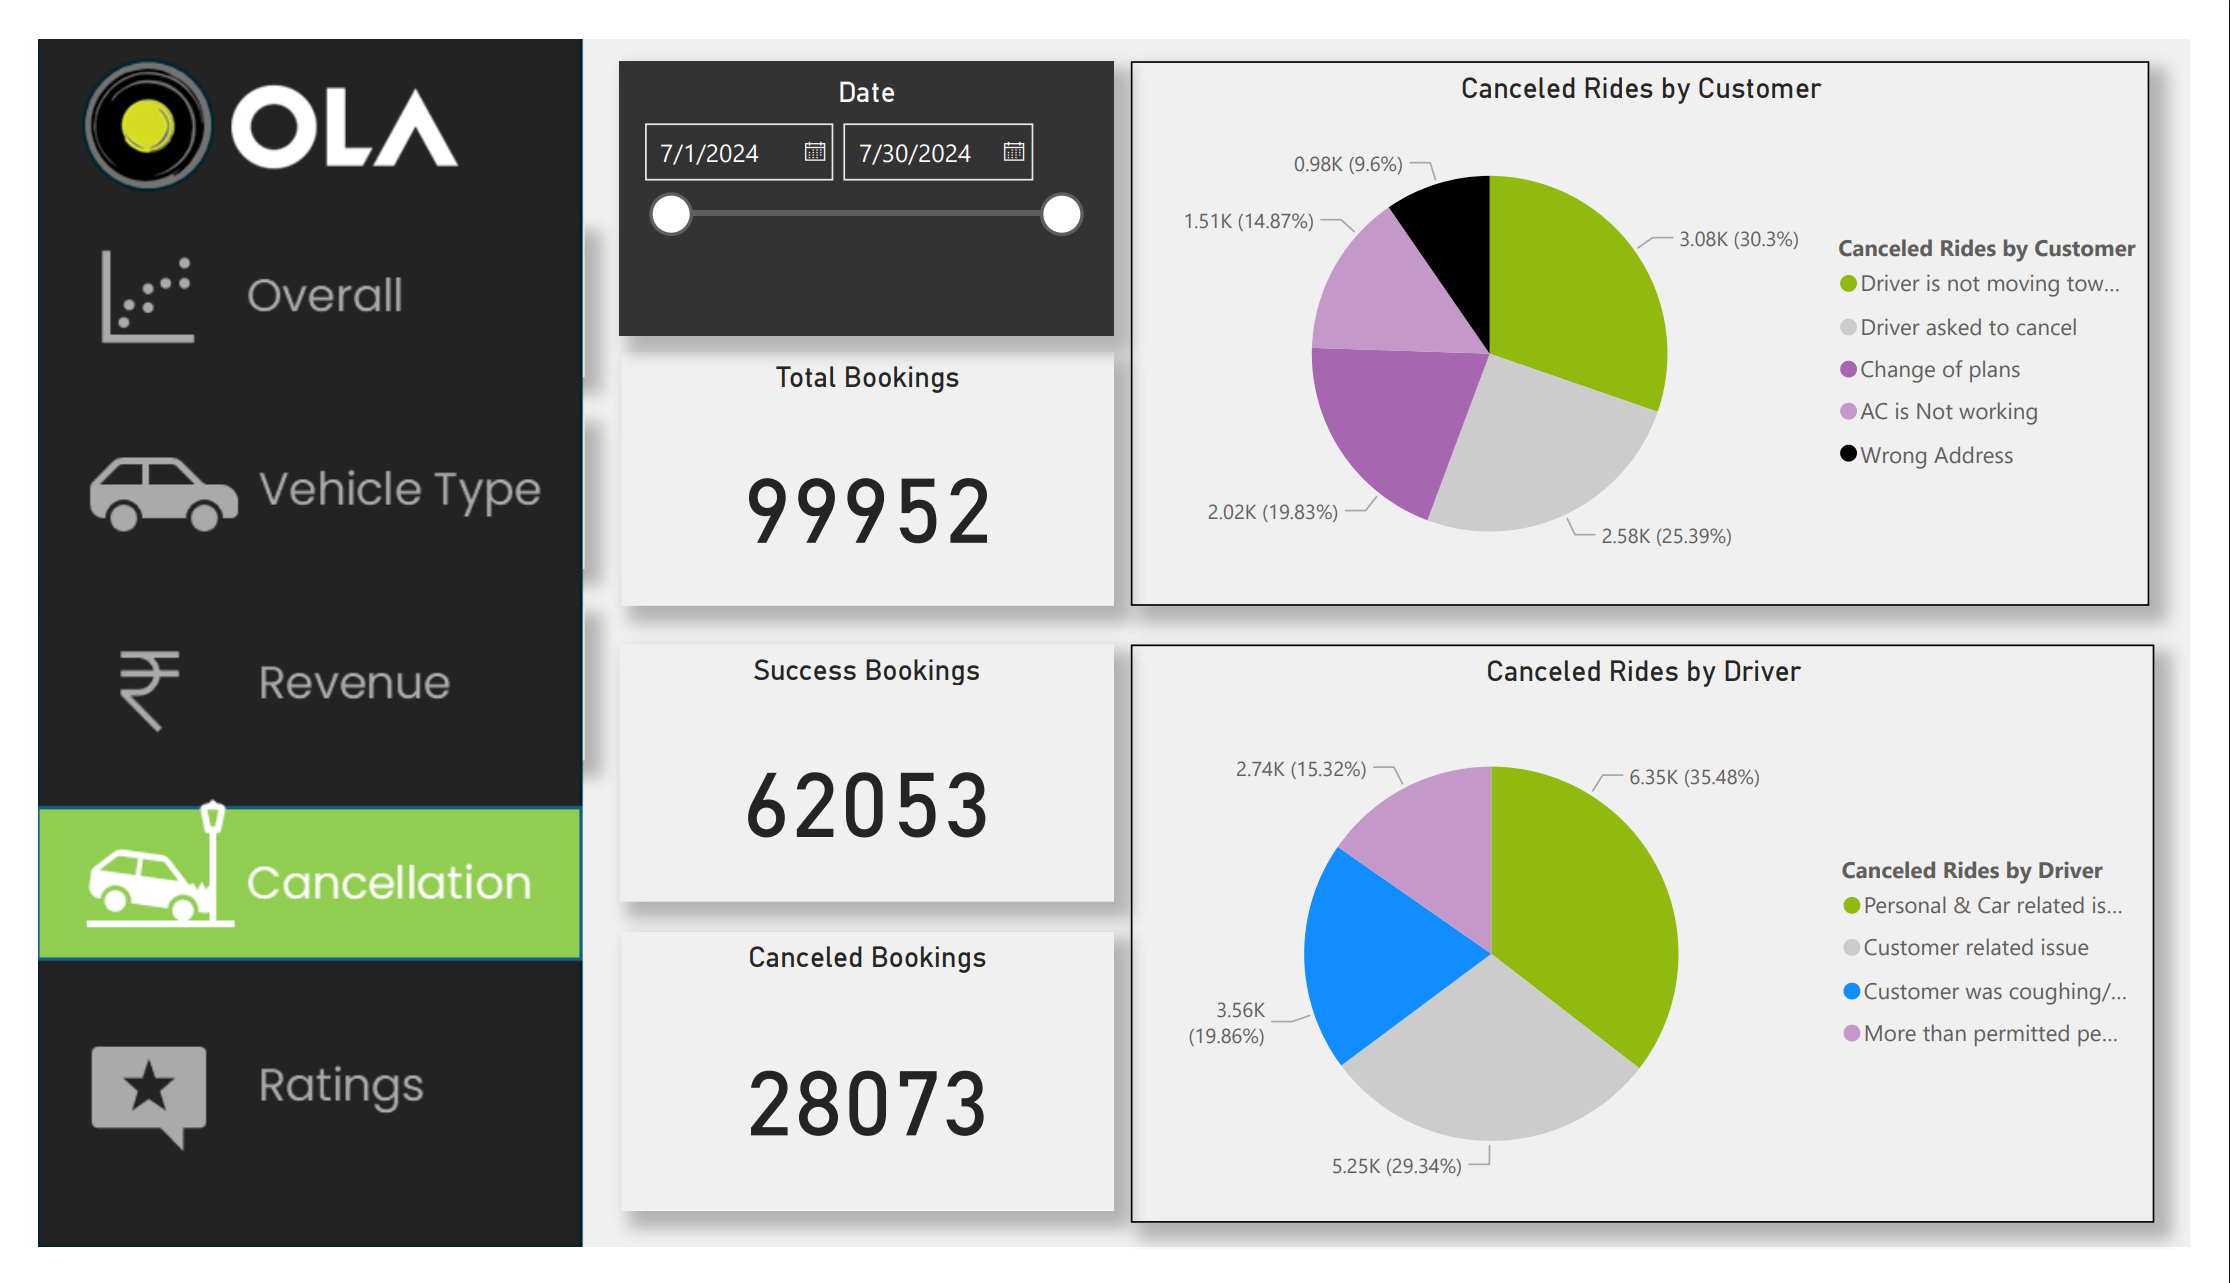

This screenshot's page, from the dashboard's own definition file:
{"tool":"powerbi","page":{"name":"Cancellation","canvas":[1280,720],"ordinal":3},"visuals":[{"type":"actionButton","box":[1.1,110.2,323.9,91.3],"z":0},{"type":"actionButton","box":[0,578.8,325,91.3],"z":1000},{"type":"actionButton","box":[1.1,337.3,323.9,91.3],"z":2000},{"type":"actionButton","box":[1.1,223.7,323.9,91.3],"z":3000},{"type":"pieChart","title":"Canceled Rides by Customer","fields":{"Category":["July.Canceled_Rides_by_Customer"],"Y":["CountNonNull(July.Canceled_Rides_by_Customer)"]},"box":[650,12.9,605.7,324.3],"z":3001},{"type":"pieChart","title":"Canceled Rides by Driver","fields":{"Category":["July.Canceled_Rides_by_Driver"],"Y":["CountNonNull(July.Canceled_Rides_by_Driver)"]},"box":[650,360,608.6,344.3],"z":3002},{"type":"slicer","title":"Date","fields":{"Values":["July.Date"]},"box":[345.7,12.9,294.3,162.9],"z":3003},{"type":"card","title":"Total Bookings","fields":{"Values":["CountNonNull(July.Booking_ID)"]},"box":[347.1,185.7,292.9,151.4],"z":3004},{"type":"card","title":"Success Bookings","fields":{"Values":["CountNonNull(July.Booking_ID)"]},"box":[345.7,360,294.3,152.9],"z":3005},{"type":"card","title":"Canceled Bookings","fields":{"Values":["CountNonNull(July.Booking_ID)"]},"box":[347.1,531.4,292.9,165.7],"z":3006}]}

Visuals, with their boxes in screenshot pixels (x1, y1, x2, y2), scaled from the page's 1280x720 canvas onto the 2230x1283 screenshot:
actionButton: box(2, 196, 566, 359)
actionButton: box(0, 1031, 566, 1194)
actionButton: box(2, 601, 566, 764)
actionButton: box(2, 399, 566, 561)
"Canceled Rides by Customer" pieChart: box(1132, 23, 2188, 601)
"Canceled Rides by Driver" pieChart: box(1132, 642, 2193, 1255)
"Date" slicer: box(602, 23, 1115, 313)
"Total Bookings" card: box(605, 331, 1115, 601)
"Success Bookings" card: box(602, 642, 1115, 914)
"Canceled Bookings" card: box(605, 947, 1115, 1242)
